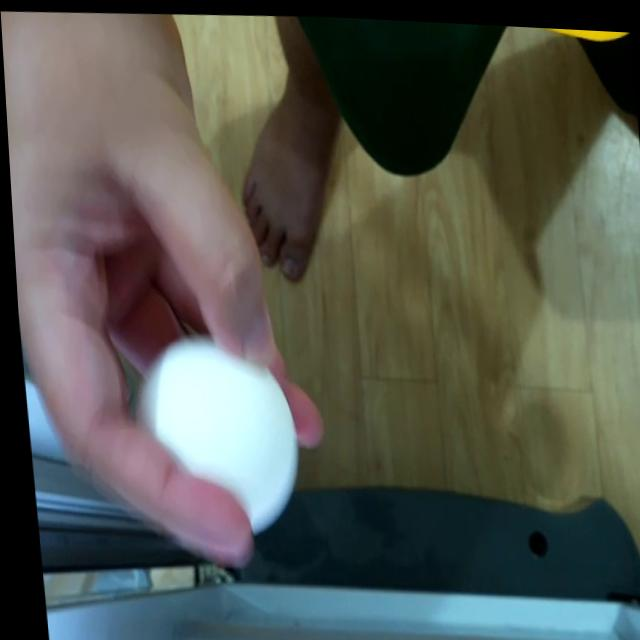egg: (119, 324, 302, 537)
